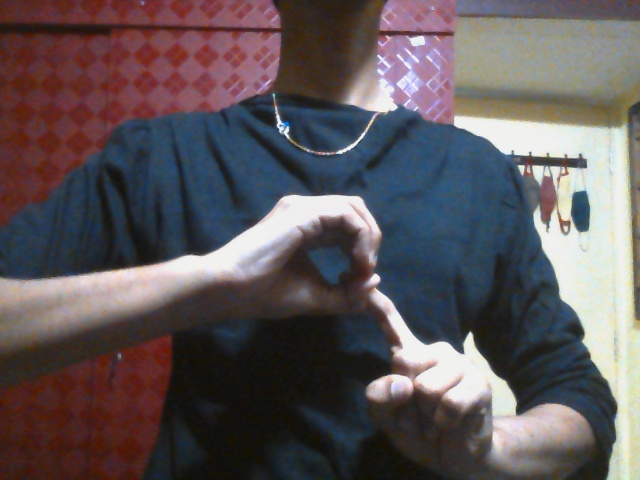Q: (242, 191, 493, 465)
